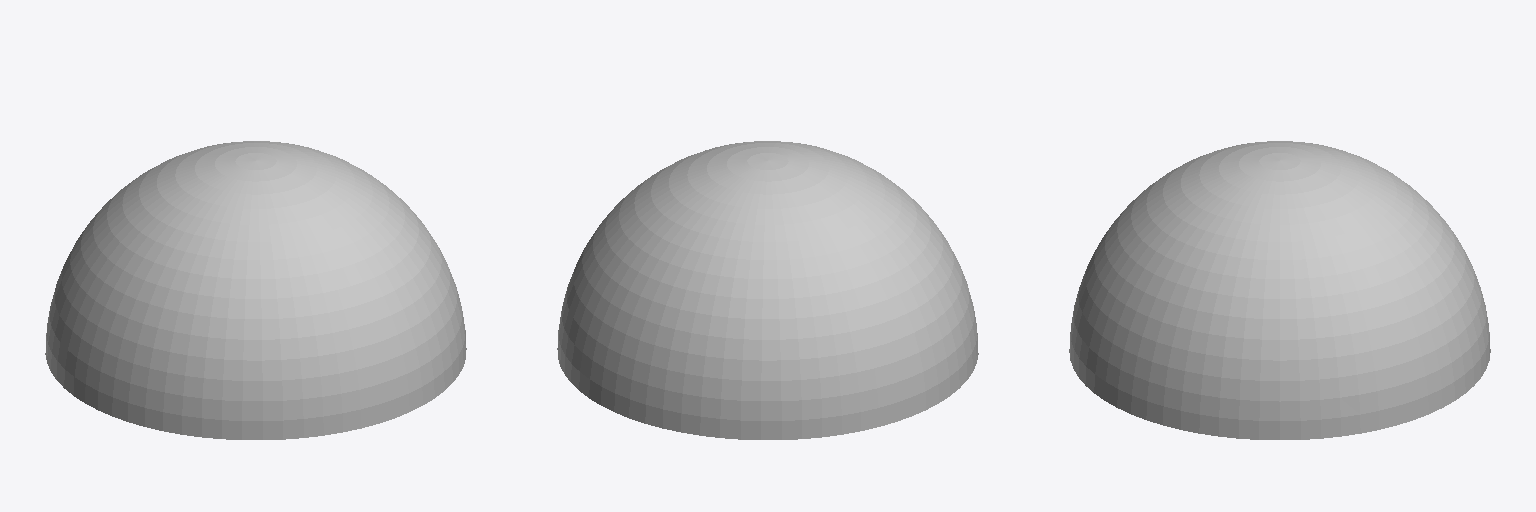
File: sky.obj
3 renders of one model, left to right at view 1: azimuth 30°, elevation 25°; view 2: azimuth 150°, elevation 25°; view 3: azimuth 270°, elevation 25°, orthographic.
Size of the model in its own units: 1 by 0.5 by 1.